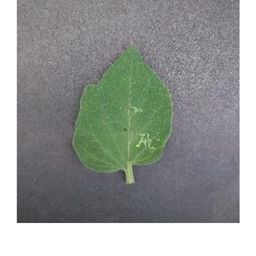liriomyza: (135, 133, 160, 152), (129, 104, 144, 113)
